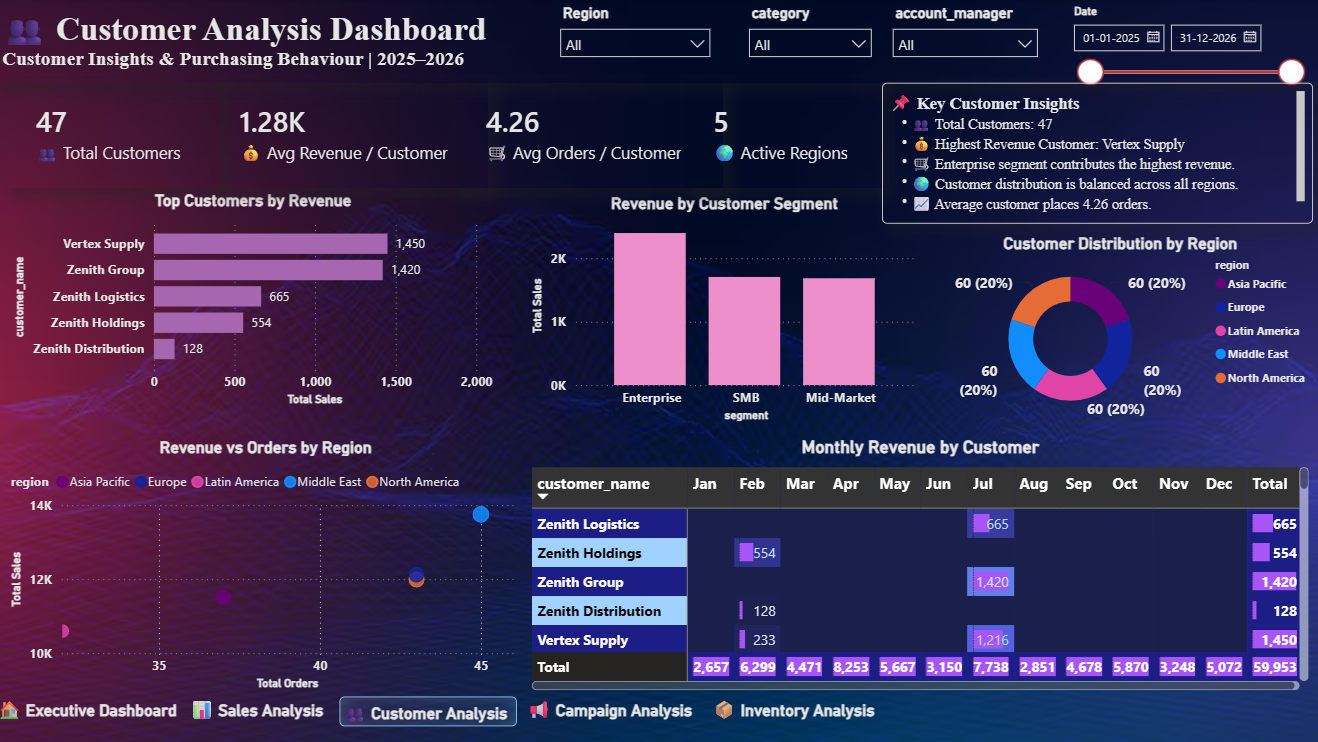

This screenshot's page, from the dashboard's own definition file:
{"tool":"powerbi","page":{"name":"Customer Analysis","canvas":[1280,720],"ordinal":2},"visuals":[{"type":"textbox","box":[0,0,1280,80.8],"z":0},{"type":"cardVisual","fields":{"Data":["_measures.Total Customers"]},"box":[8.5,77.6,206.3,105],"z":1000},{"type":"clusteredColumnChart","title":"Revenue by Customer Segment","fields":{"Category":["dim_customer.segment"],"Y":["_measures.Total Sales"]},"box":[511,187.7,381.1,224.4],"z":2000},{"type":"barChart","title":"Top Customers by Revenue","fields":{"Y":["_measures.Total Sales"],"Category":["dim_customer.customer_name"]},"box":[11.3,186.3,472.9,211.7],"z":3000},{"type":"slicer","fields":{"Values":["dim_date.Date"]},"box":[1026.7,0,243.7,89.3],"z":4000},{"type":"slicer","fields":{"Values":["dim_geo.region"]},"box":[533.2,0,165.3,62.7],"z":5000},{"type":"slicer","fields":{"Values":["dim_product.category"]},"box":[715.4,0,138.7,62.7],"z":6000},{"type":"slicer","fields":{"Values":["dim_customer.account_manager"]},"box":[854.2,0,160.5,62.7],"z":7000},{"type":"cardVisual","fields":{"Data":["_measures.Average Revenue per Customer"]},"box":[204.7,77.6,269,105],"z":8000},{"type":"cardVisual","fields":{"Data":["_measures.Average Orders per Customer"]},"box":[443.2,77.6,258.2,105],"z":9000},{"type":"cardVisual","fields":{"Data":["_measures.Active Regions"]},"box":[662,77.6,191.8,105],"z":10000},{"type":"donutChart","title":"Customer Distribution by Region","fields":{"Category":["dim_geo.region"],"Y":["_measures.Total_customers"]},"box":[892.1,227.3,385.4,184.9],"z":11000},{"type":"textbox","box":[854.2,80.8,416.2,136.3],"z":12000},{"type":"actionButton","title":"📊 Sales Analysis","box":[186.3,673.3,153.7,28.8],"z":13000},{"type":"actionButton","title":"👥 Customer Analysis","box":[330.3,673.3,171.5,28.8],"z":14000},{"type":"actionButton","title":"📢 Campaign Analysis","box":[511,673.3,172.9,30.2],"z":15000},{"type":"actionButton","title":"📦 Inventory Analysis","box":[690.3,673.3,179.8,28.8],"z":16000},{"type":"actionButton","title":"🏠 Executive Dashboard","box":[0,673.3,190.7,28.8],"z":17000},{"type":"scatterChart","title":"Revenue vs Orders by Region","fields":{"X":["_measures.Total Orders"],"Y":["_measures.Total Sales"],"Series":["dim_geo.region"],"Size":["Sum(fact_sales.quantity)"]},"box":[8.5,423.5,501.9,247.3],"z":19000},{"type":"pivotTable","title":"Monthly Revenue by Customer","fields":{"Rows":["dim_customer.customer_name"],"Values":["_measures.Total Sales"],"Columns":["dim_date.Month Name"]},"box":[511,422.1,759.4,249.8],"z":20000}]}

Visuals, with their boxes in screenshot pixels (x1, y1, x2, y2), scaled from the page's 1280x720 canvas onto the 1318x742 screenshot:
textbox: locate(0, 0, 1317, 83)
cardVisual - _measures.Total Customers: locate(9, 80, 221, 188)
"Revenue by Customer Segment" clusteredColumnChart: locate(526, 193, 919, 425)
"Top Customers by Revenue" barChart: locate(12, 192, 499, 410)
slicer - dim_date.Date: locate(1057, 0, 1308, 92)
slicer - dim_geo.region: locate(549, 0, 719, 65)
slicer - dim_product.category: locate(737, 0, 879, 65)
slicer - dim_customer.account_manager: locate(880, 0, 1045, 65)
cardVisual - _measures.Average Revenue per Customer: locate(211, 80, 488, 188)
cardVisual - _measures.Average Orders per Customer: locate(456, 80, 722, 188)
cardVisual - _measures.Active Regions: locate(682, 80, 879, 188)
"Customer Distribution by Region" donutChart: locate(919, 234, 1315, 425)
textbox: locate(880, 83, 1308, 224)
"📊 Sales Analysis" actionButton: locate(192, 694, 350, 724)
"👥 Customer Analysis" actionButton: locate(340, 694, 517, 724)
"📢 Campaign Analysis" actionButton: locate(526, 694, 704, 725)
"📦 Inventory Analysis" actionButton: locate(711, 694, 896, 724)
"🏠 Executive Dashboard" actionButton: locate(0, 694, 196, 724)
"Revenue vs Orders by Region" scatterChart: locate(9, 436, 526, 691)
"Monthly Revenue by Customer" pivotTable: locate(526, 435, 1308, 692)
